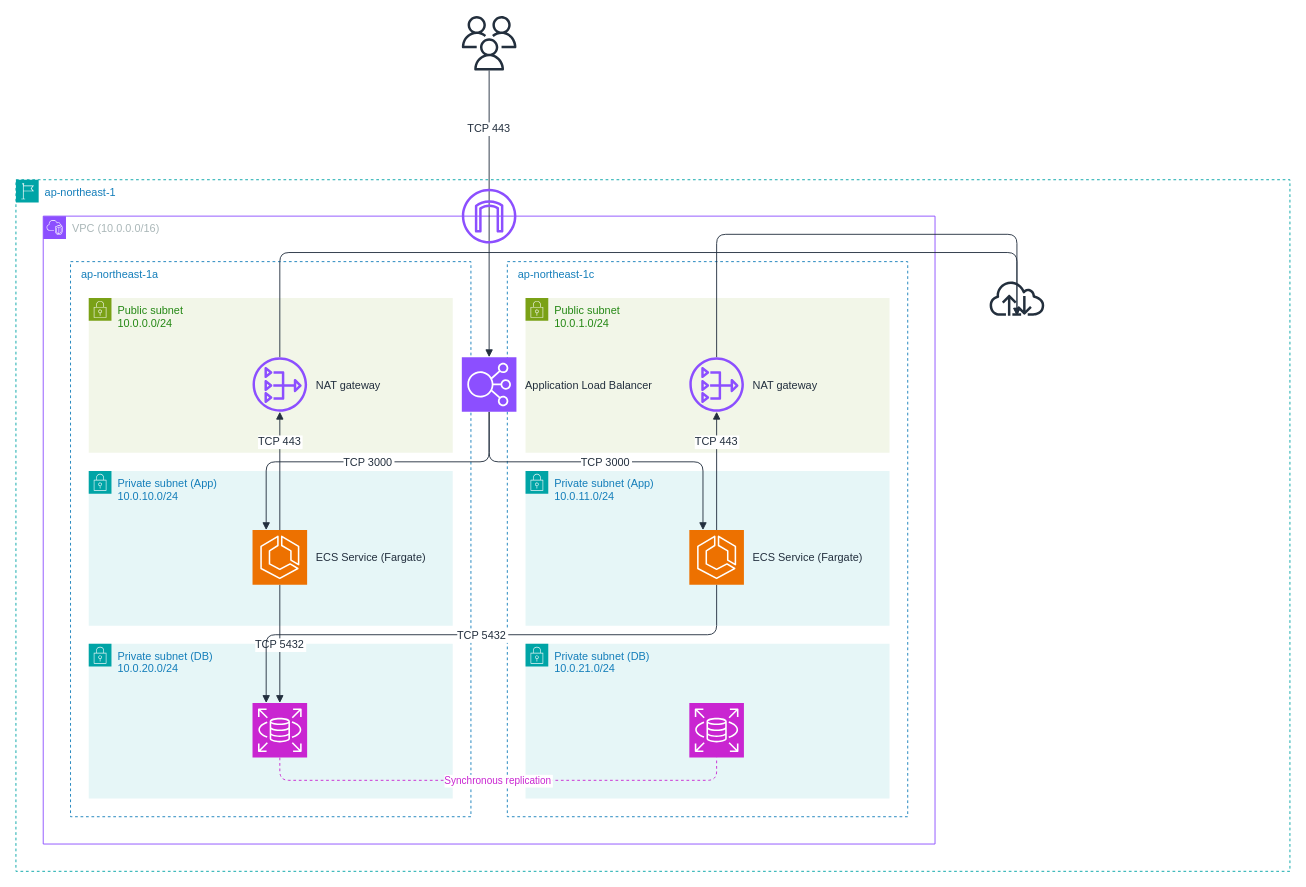
Image size: 1306x887. Some labels were removed from this diagram. The centre of each missing label's shape, as x and y in pixels:
AWS services (ECR / CloudWatch Logs): [1016,297]
Internet gateway: [488,215]
RDS for PostgreSQL (Primary): [279,730]
RDS for PostgreSQL (Standby): [716,730]
Users: [488,42]
